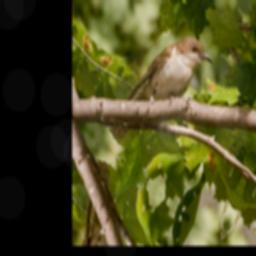Cuckoo: (106, 0, 217, 187)
